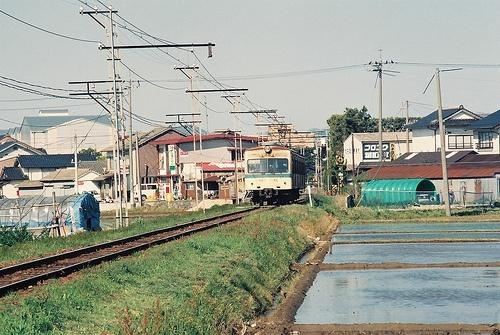train: (242, 145, 306, 202)
